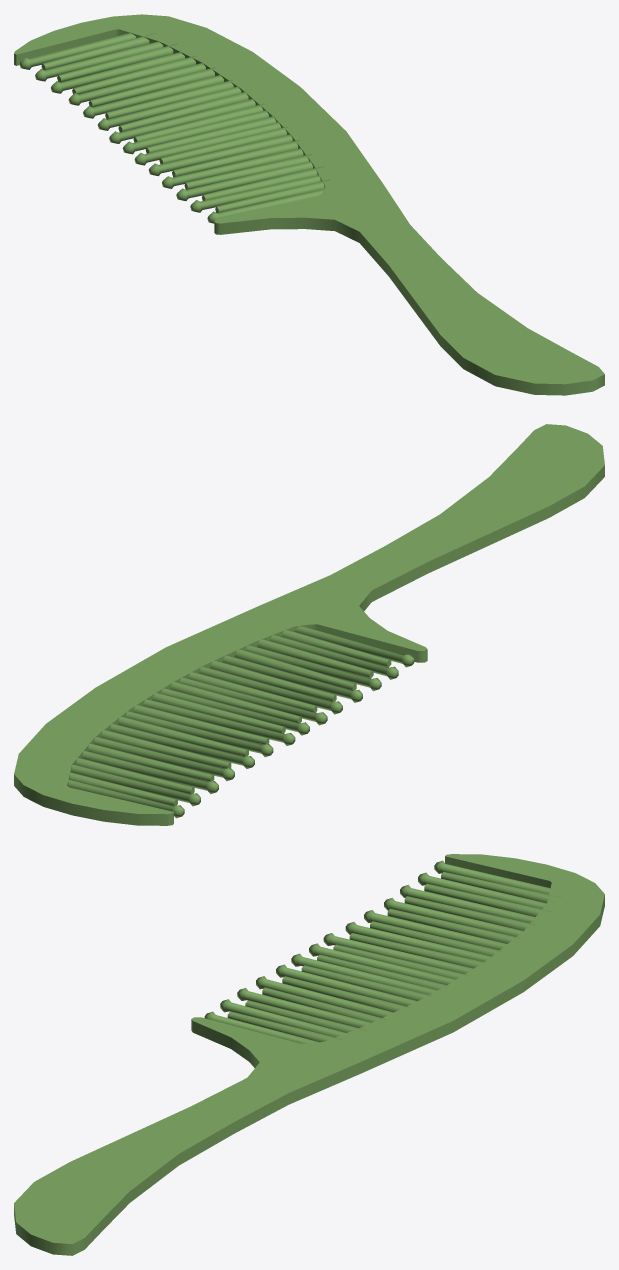
File: Comb_01.fbx
The picture shows the model from 3 angles, top to bottom: view 1: azimuth 30°, elevation 25°; view 2: azimuth 150°, elevation 25°; view 3: azimuth 330°, elevation 25°; orthographic projection. The views are drawn at different scales.
Visible parts, largest first — view 1: Comb_01; view 2: Comb_01; view 3: Comb_01.
Boxes of the visible parts, x1=… form: Comb_01: x1=14, y1=14, x2=604, y2=395; Comb_01: x1=14, y1=424, x2=604, y2=825; Comb_01: x1=14, y1=854, x2=604, y2=1255.
Bounding box in the file's own units: 0.0579 × 0.00338 × 0.2442.
